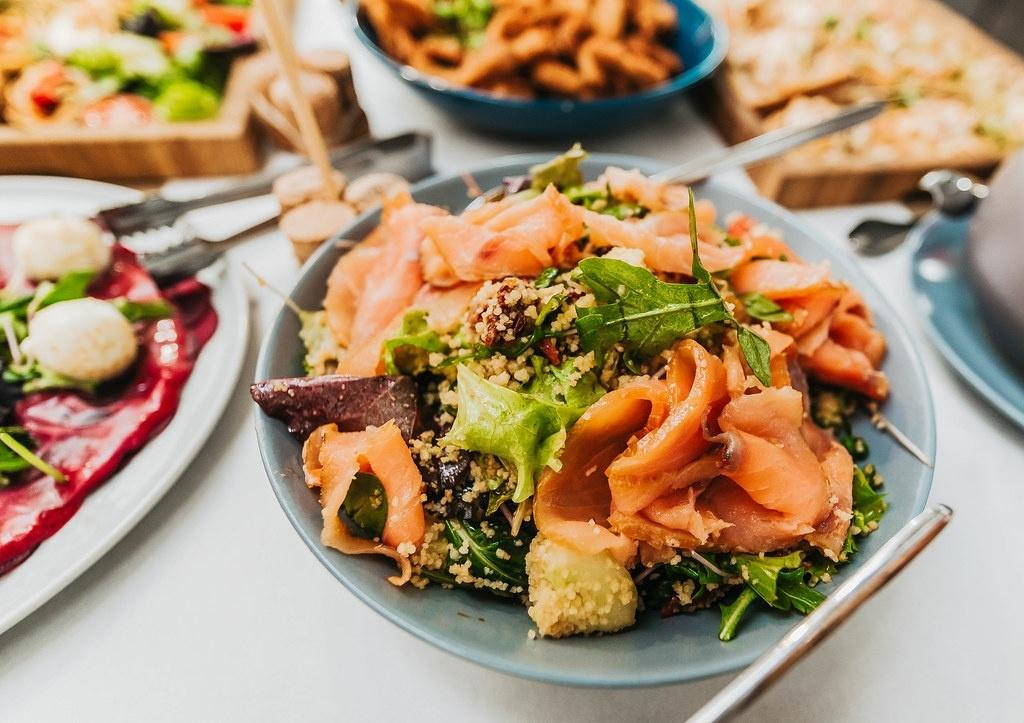salad: (327, 207, 858, 583)
